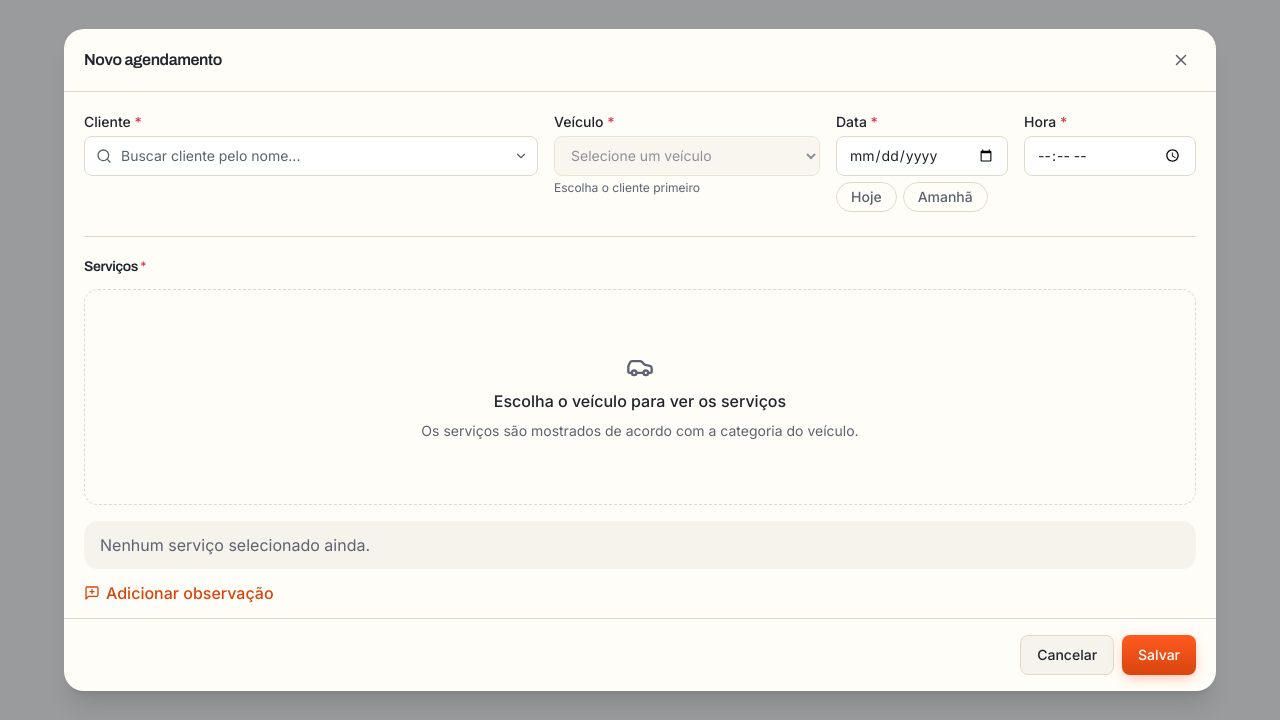
Test: AgendamentoFormModal › lists only the active services of the vehicle’s category, with a way to see them all
The image size is (1280, 720).
Click the field with placeholder "Buscar cliente pelo nome..." at (311, 156), box [84,136,538,176]
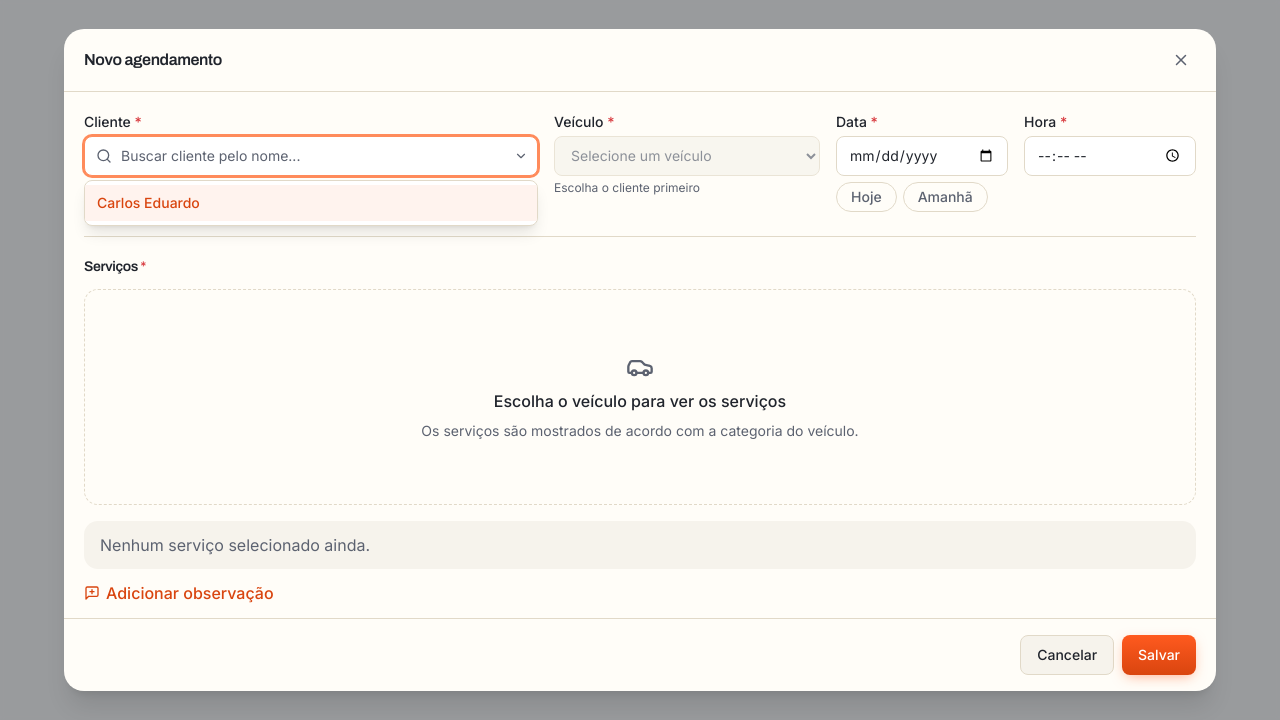
Click the button "Carlos Eduardo" at (148, 202), box [85,185,537,221]
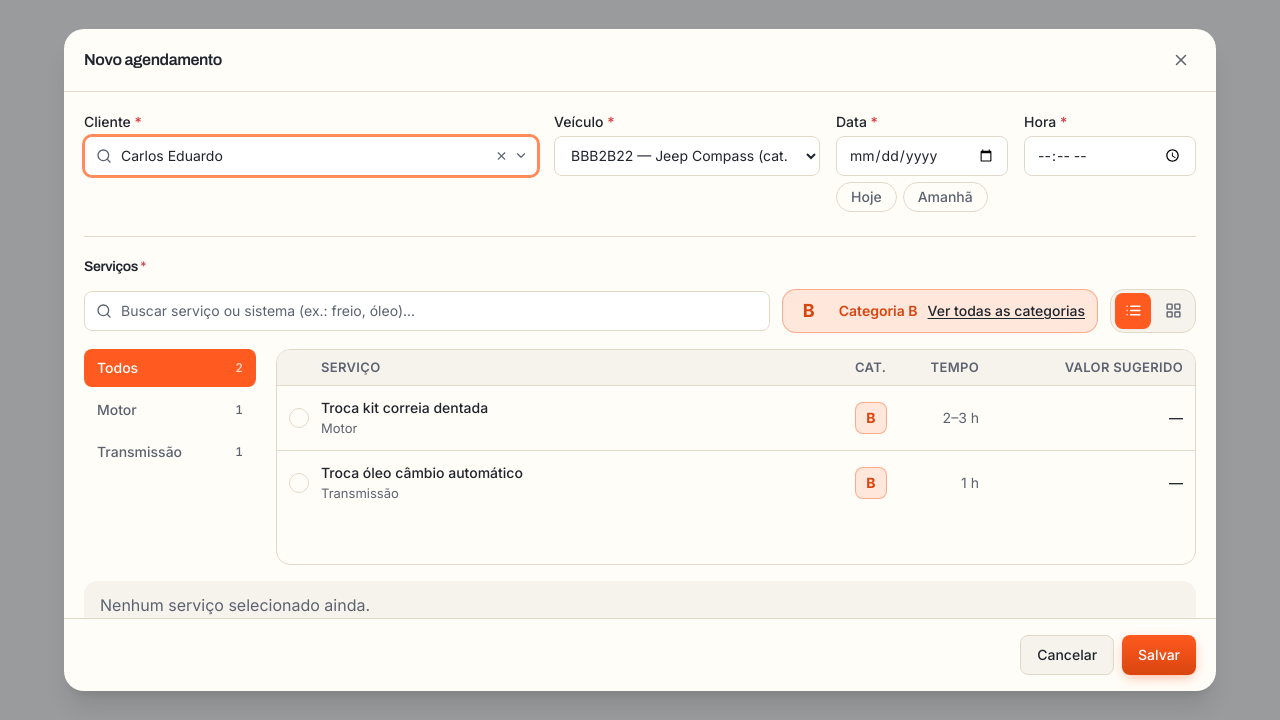
Expected: the checkbox labelled "óleo do motor" is not shown
Result: the checkbox labelled "Troca kit correia dentada Motor B 2–3 h —" is shown at [289,399,1183,436]
Result: the checkbox labelled "Troca óleo câmbio automático Transmissão B 1 h —" is shown at [289,464,1183,501]
Click the button "Ver todas as categorias" at (1006, 311), box [928,301,1085,321]
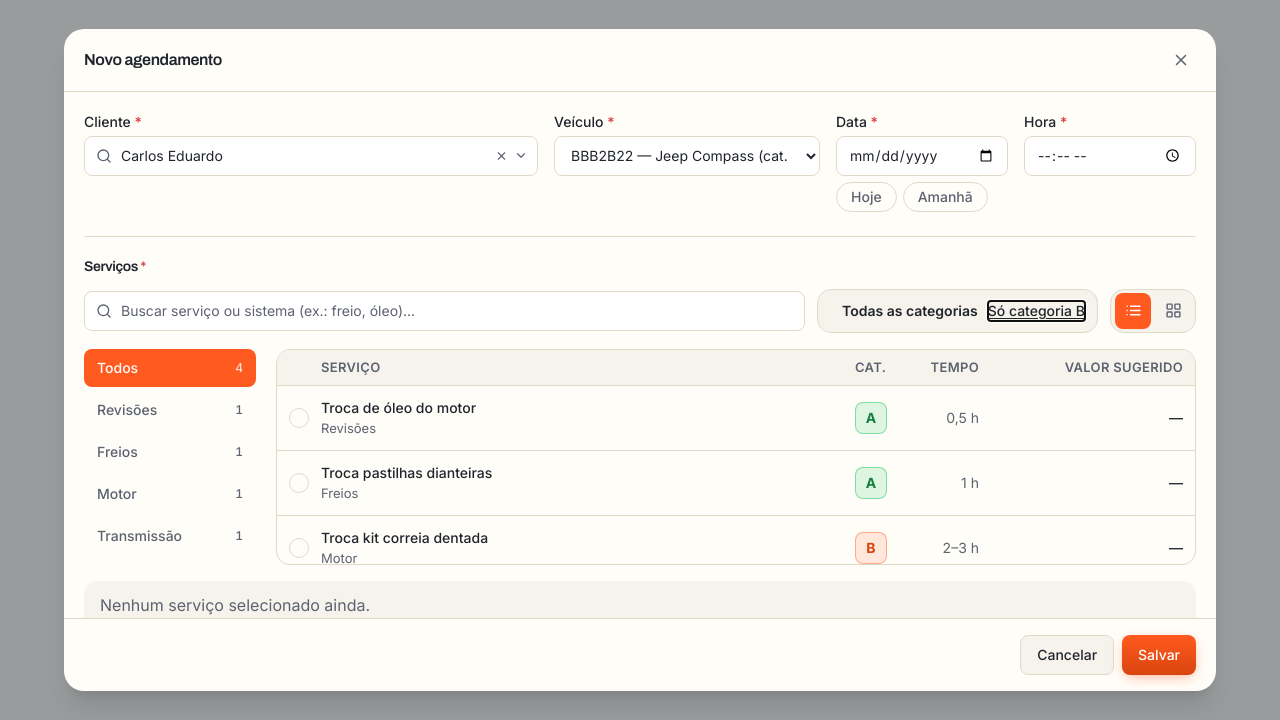
Result: the checkbox labelled "Troca de óleo do motor Revisões A 0,5 h —" is shown at [289,399,1183,436]
